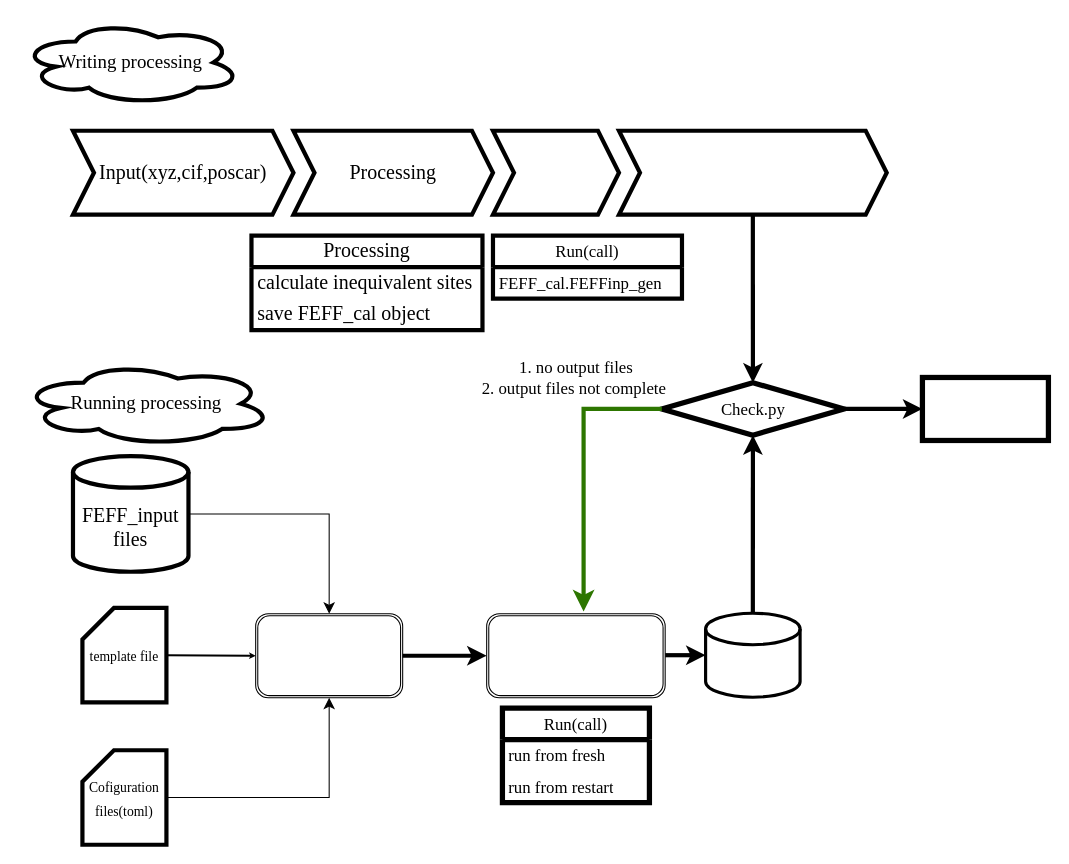
This 1069x864 diagram has some shape labels left out. The shapes that lost their labels are listed below. From the top down, each one's centre as x and y in pixels, then its label:
At (x=555, y=172): "Run".
At (x=752, y=172): "output(FEFF input file)".
At (x=985, y=408): "Finished!".
At (x=329, y=655): "FEFF_cal object".
At (x=575, y=655): "FEFF_cal.particle_run".
At (x=752, y=654): "json files".
